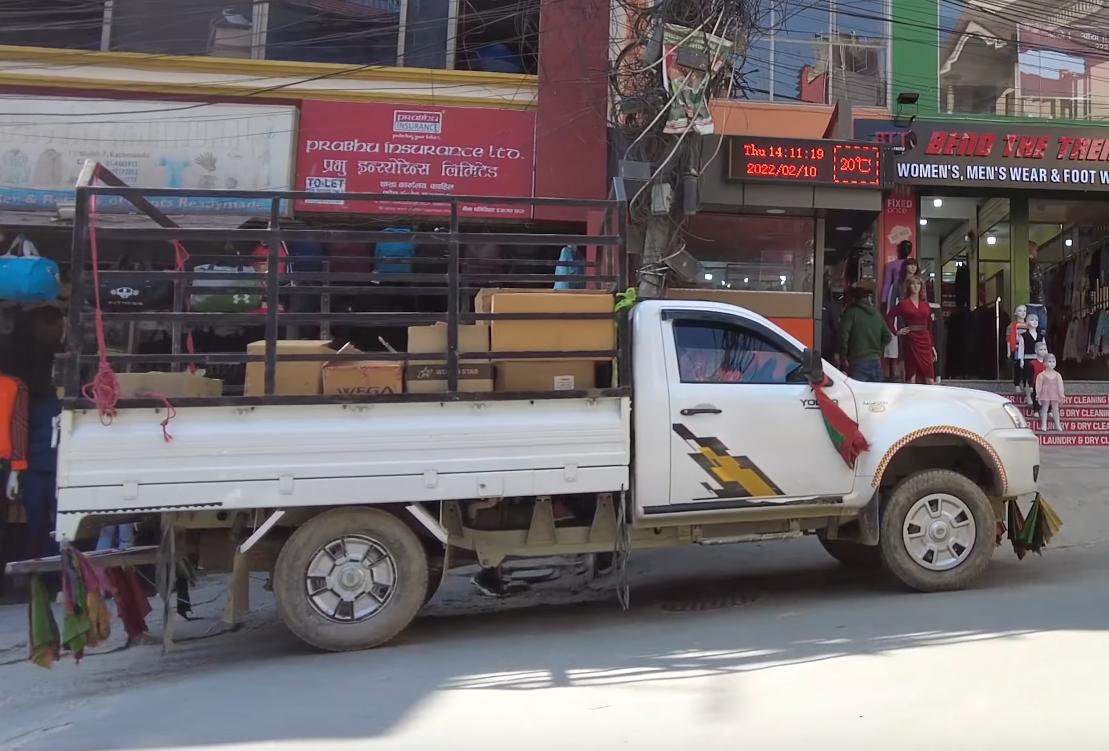transport_vehicle: (49, 151, 1046, 658)
